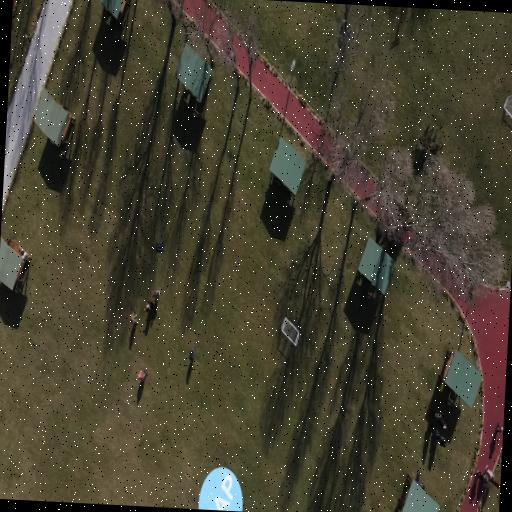car: (198, 467, 242, 512)
person: (431, 426, 446, 447), (486, 465, 498, 487), (435, 413, 446, 429), (476, 470, 488, 482), (416, 473, 424, 490), (431, 426, 440, 440), (485, 465, 494, 479), (188, 349, 195, 362), (138, 370, 147, 380), (156, 241, 164, 252), (130, 313, 138, 324), (439, 436, 446, 447), (145, 302, 153, 311), (22, 252, 28, 262), (152, 290, 159, 298), (497, 423, 502, 434)
